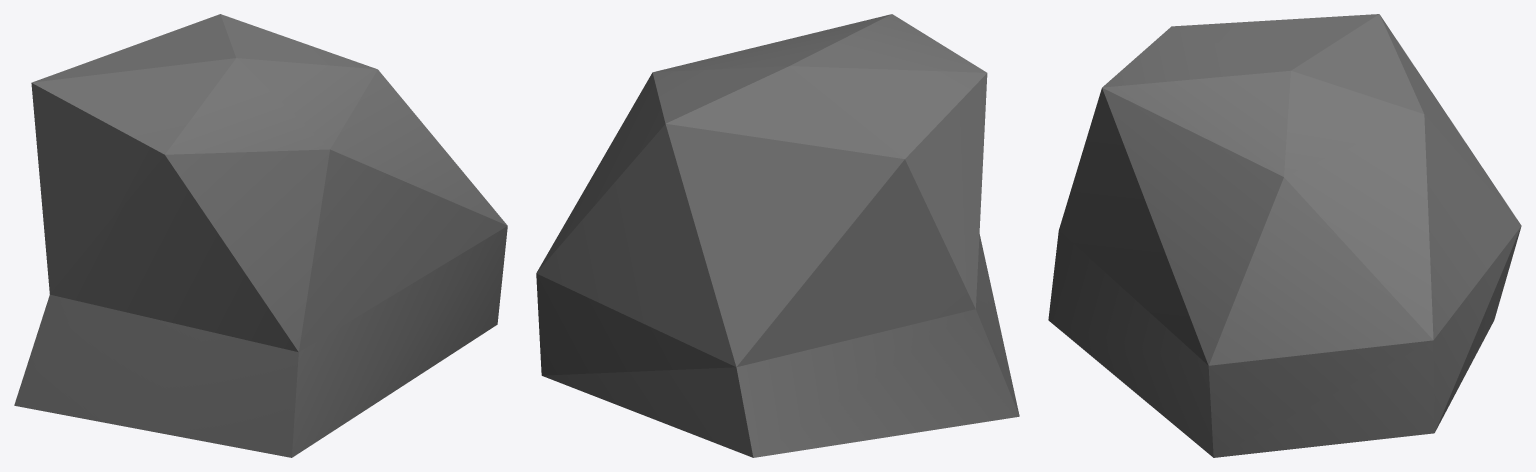
The model's file is rock.glb.
3 views of the same model, side by side, from view 1: azimuth 30°, elevation 25°; view 2: azimuth 150°, elevation 25°; view 3: azimuth 270°, elevation 25° (orthographic). The views are drawn at different scales.
Parts seen in each view (by area): view 1: rock; view 2: rock; view 3: rock.
Boxes of the visible parts, bbox=[...] form: rock: bbox=[14, 14, 507, 457]; rock: bbox=[536, 14, 1019, 457]; rock: bbox=[1048, 14, 1521, 457].
Size of the model in its own units: 0.9806 by 0.6022 by 0.9143.
1 material, 1 textured.
